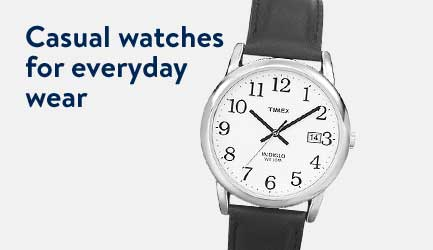clock: (213, 68, 340, 195)
